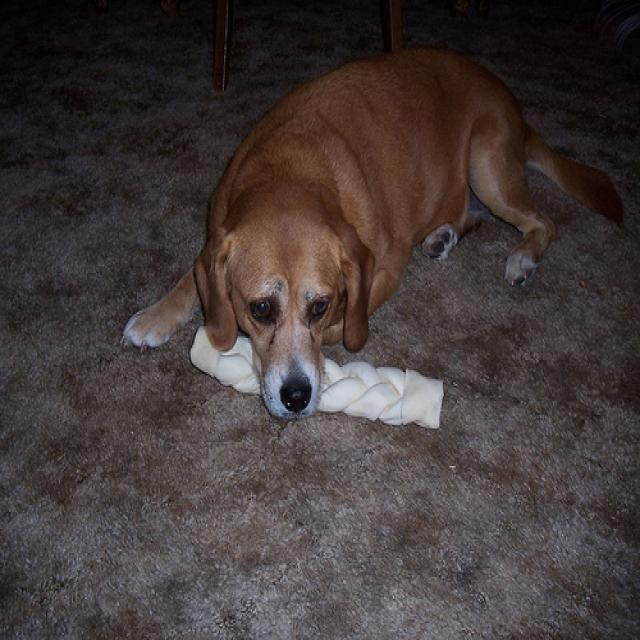dog-beagle: (116, 39, 631, 427)
